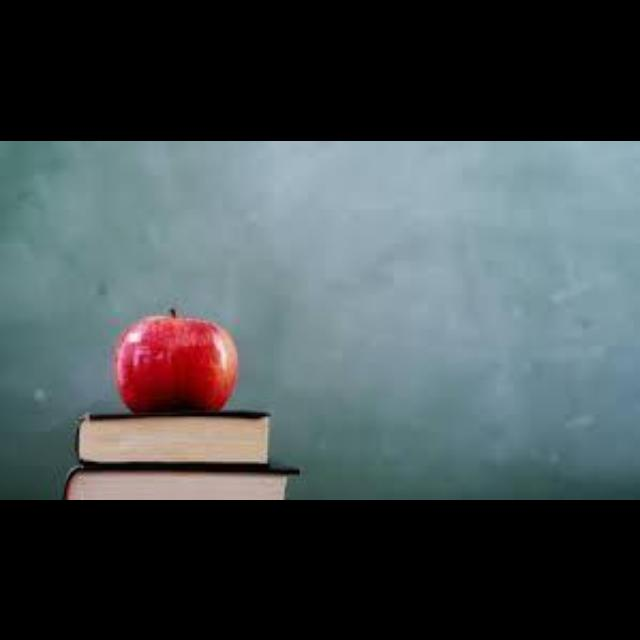apple: (113, 307, 238, 410)
